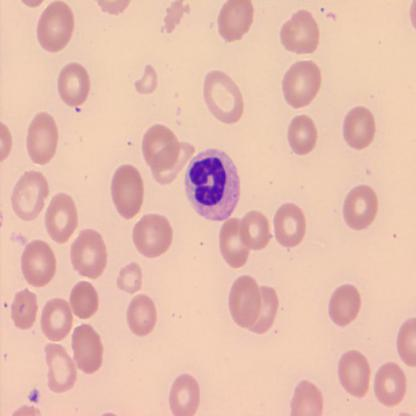Band Neutrophil: (182, 146, 242, 223)
